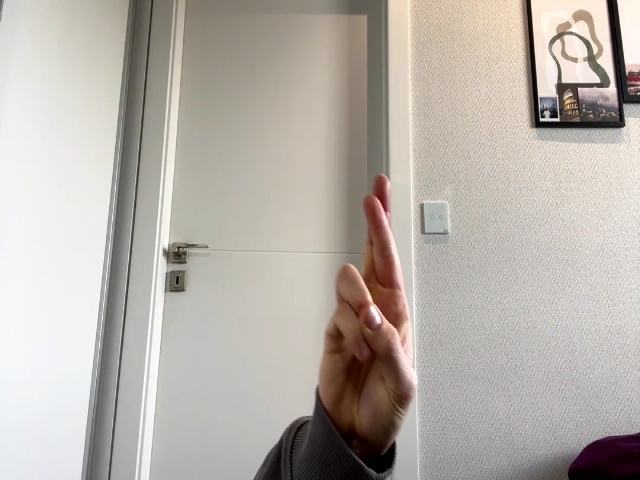R: (321, 175, 417, 438)
